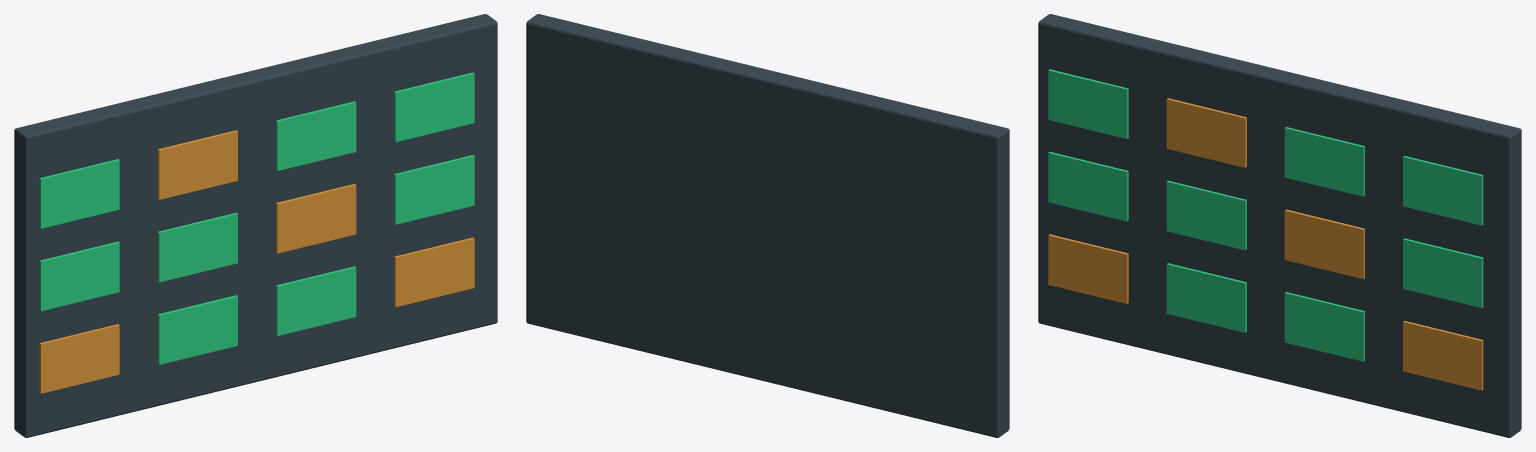
Rendered from CC_S16_P2_Expansion_Staff_TaskBoard_LOD0.fbx.
3 views of the same model, side by side, from view 1: azimuth 30°, elevation 25°; view 2: azimuth 150°, elevation 25°; view 3: azimuth 330°, elevation 25° (orthographic).
Parts seen in each view (by area): view 1: CC_S16_P2_Expansion_Staff_TaskBoard_LOD0_Panel, CC_S16_P2_Expansion_Staff_TaskBoard_LOD0; view 2: CC_S16_P2_Expansion_Staff_TaskBoard_LOD0_Panel; view 3: CC_S16_P2_Expansion_Staff_TaskBoard_LOD0_Panel, CC_S16_P2_Expansion_Staff_TaskBoard_LOD0.
Part boxes in pixels (<box>): CC_S16_P2_Expansion_Staff_TaskBoard_LOD0_Panel: <box>14,14,497,437</box>; CC_S16_P2_Expansion_Staff_TaskBoard_LOD0: <box>39,72,474,393</box>; CC_S16_P2_Expansion_Staff_TaskBoard_LOD0_Panel: <box>526,14,1009,437</box>; CC_S16_P2_Expansion_Staff_TaskBoard_LOD0_Panel: <box>1038,14,1521,437</box>; CC_S16_P2_Expansion_Staff_TaskBoard_LOD0: <box>1048,69,1483,390</box>.
Size of what is drawn, in the model's own units: 1.8 by 1.1 by 0.095.
